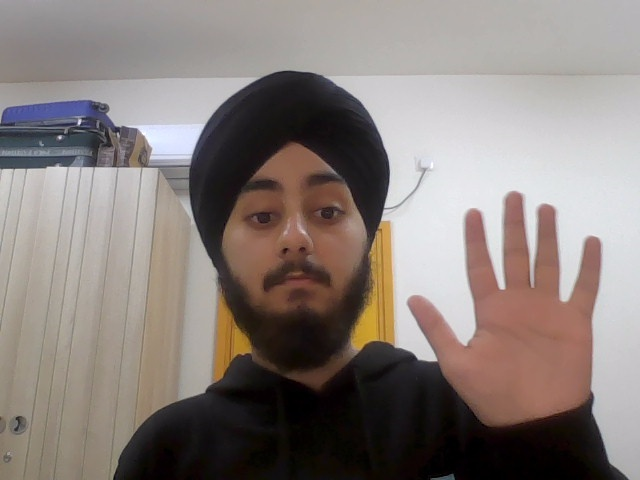Hello: (406, 179, 614, 416)
